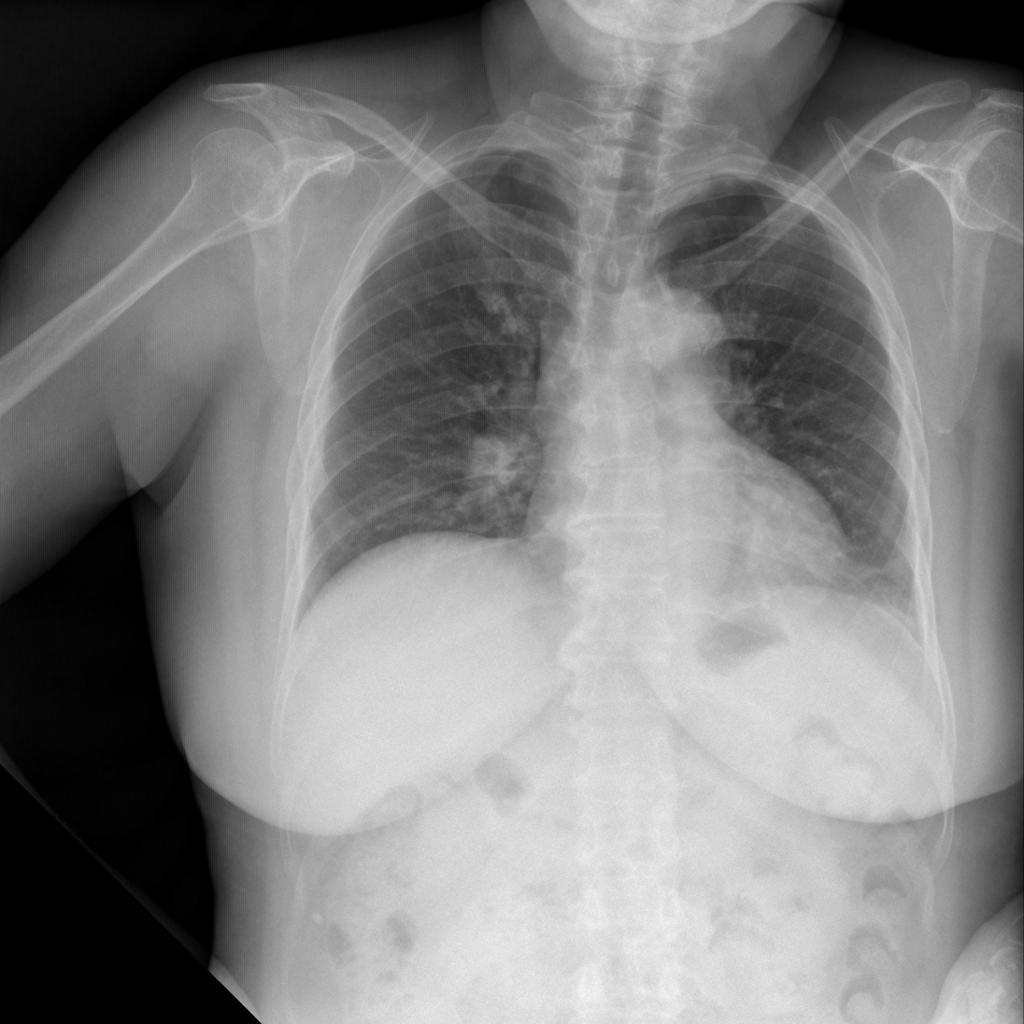Nodule: (445, 421, 543, 492)
